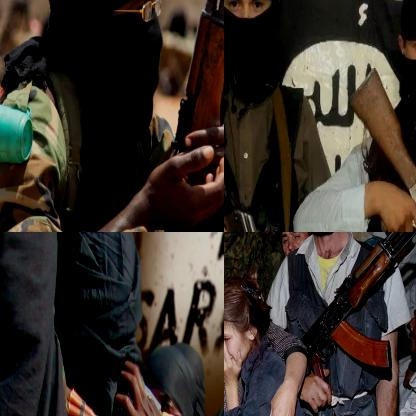rifle: (298, 232, 415, 375), (157, 0, 223, 231), (349, 62, 415, 231), (224, 98, 282, 231)
